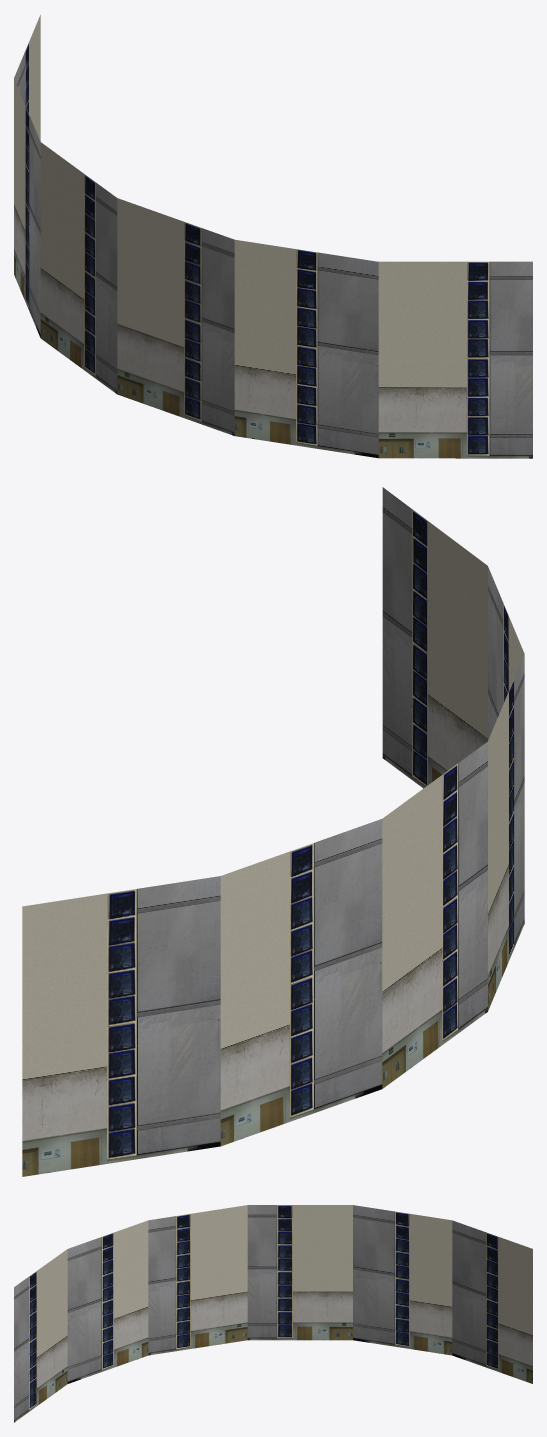
File: glass_aseos.FBX
3 renders of one model, top to bottom at view 1: azimuth 30°, elevation 25°; view 2: azimuth 150°, elevation 25°; view 3: azimuth 270°, elevation 25°, orthographic. The views are drawn at different scales.
Parts seen in each view (by area): view 1: glass_aseos; view 2: glass_aseos; view 3: glass_aseos.
Part boxes in pixels (x1,y1,x2,y2): glass_aseos: (14, 15, 532, 458); glass_aseos: (22, 487, 524, 1176); glass_aseos: (14, 1205, 532, 1422).
Bounding box in the file's own units: 293 × 224 × 778.
